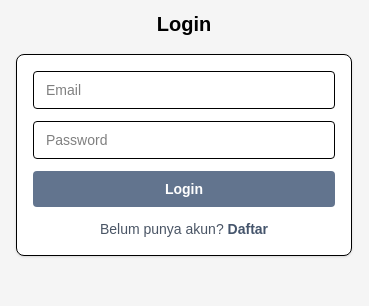
Test: FormLogin › nolak kalo password kurang dari 6 huruf
Step 1. Type "budi@mail.com" into the field with placeholder "Email" → (184, 90), box x1=33 y1=71 x2=335 y2=109
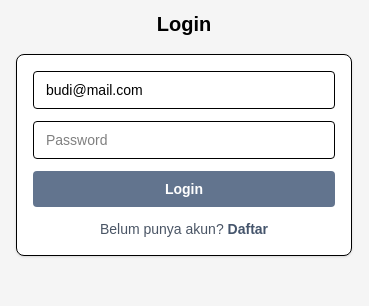
Step 2. Type "123" into the password field with placeholder "Password" → (184, 140), box x1=33 y1=121 x2=335 y2=159
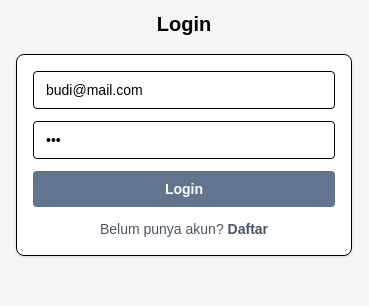
Step 3. Click the button "Login" → (184, 189), box x1=33 y1=171 x2=335 y2=207
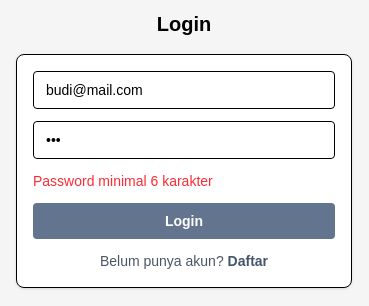
Expected: the text "Password minimal 6 karakter" is shown, x1=33 y1=173 x2=213 y2=189
